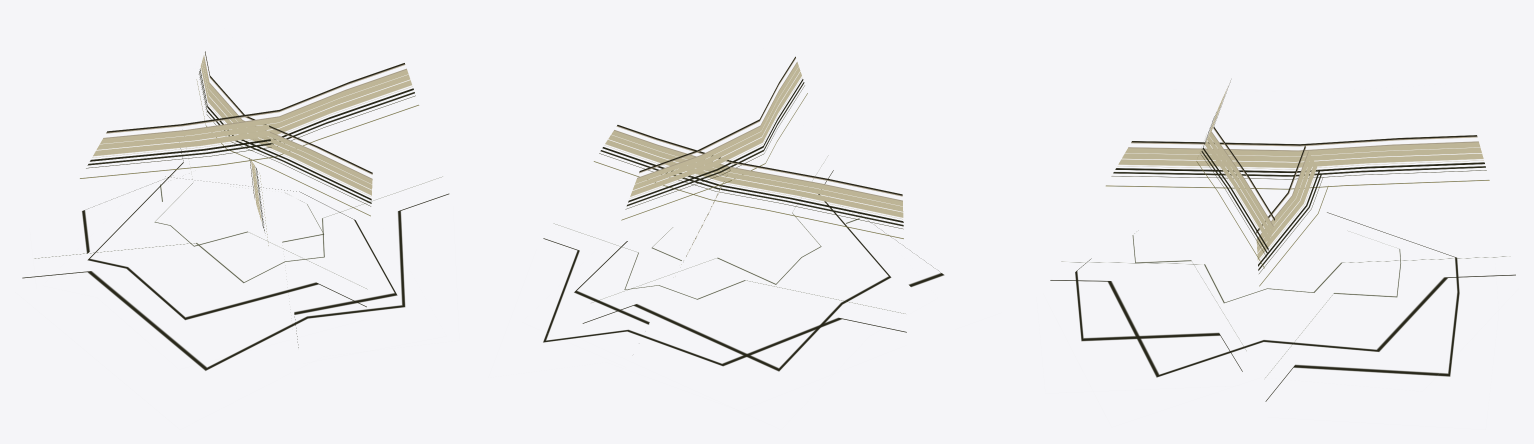
The model's file is SM_FOL_Grass_Clump_01_A.glb.
3 views of the same model, side by side, from view 1: azimuth 30°, elevation 25°; view 2: azimuth 150°, elevation 25°; view 3: azimuth 270°, elevation 25° (orthographic). The views are drawn at different scales.
Visible parts, largest first — view 1: SM_FOL_Grass_Clump_01_A; view 2: SM_FOL_Grass_Clump_01_A; view 3: SM_FOL_Grass_Clump_01_A.
Boxes of the visible parts, x1,y1,x2,y2 form: SM_FOL_Grass_Clump_01_A: (22, 51, 449, 370); SM_FOL_Grass_Clump_01_A: (543, 56, 943, 371); SM_FOL_Grass_Clump_01_A: (1050, 80, 1515, 401).
Bounding box in the file's own units: 1.16 × 0.7222 × 1.09.
Materials: 1 (1 with a texture image).
